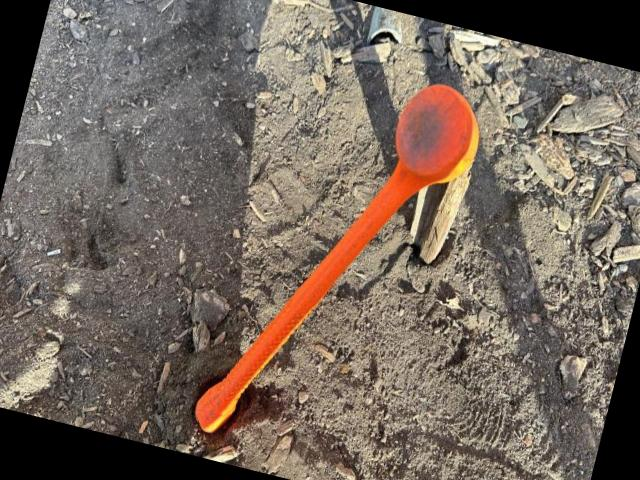hammer: (189, 42, 493, 480)
